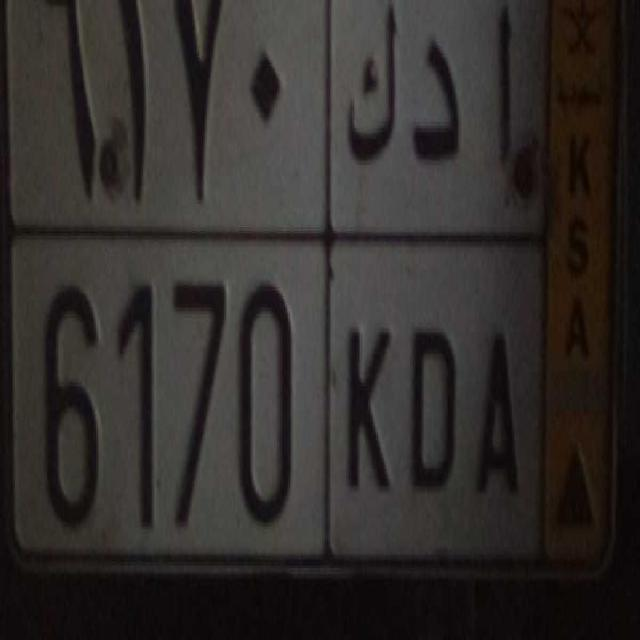license_plate: (7, 226, 547, 578)
